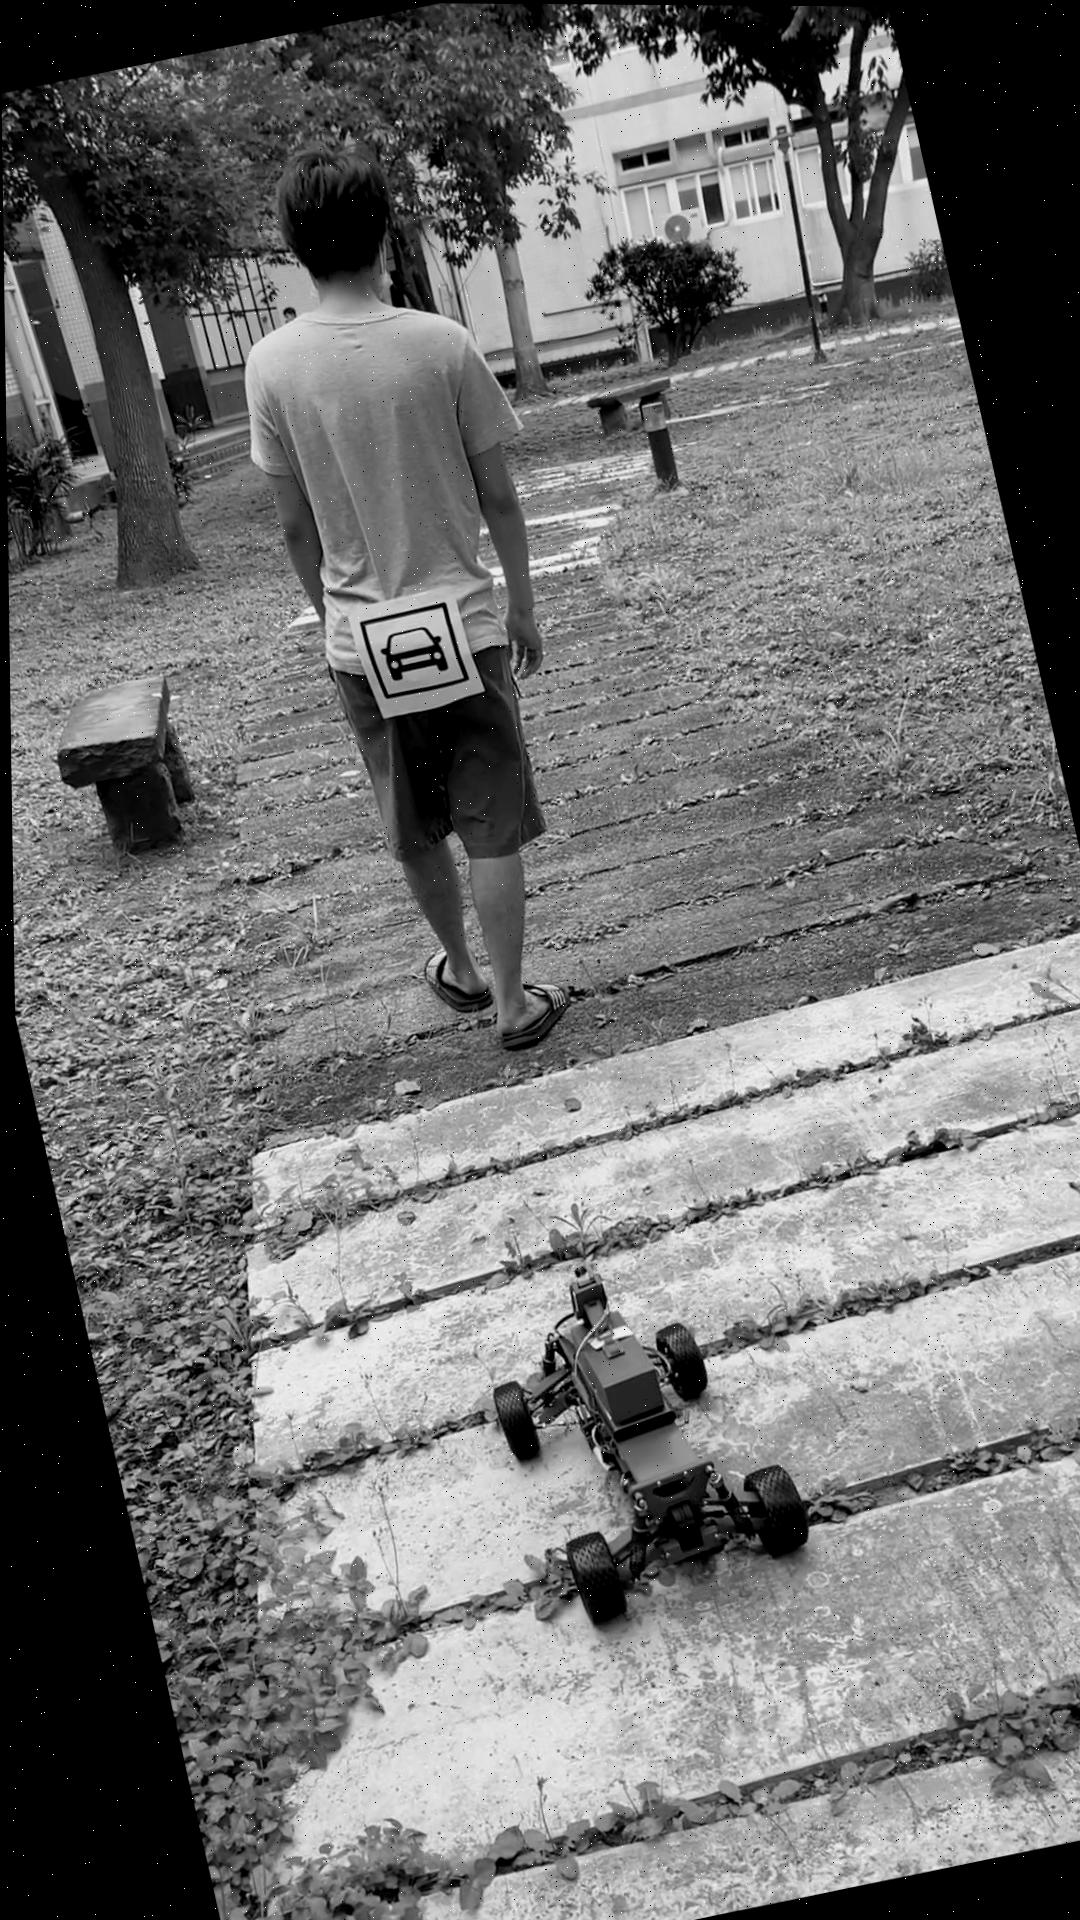car_img: (355, 597, 469, 703)
